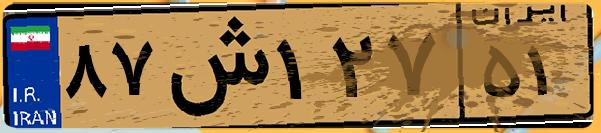1: (270, 28, 330, 110), (525, 38, 570, 115)
2: (330, 28, 385, 110)
5: (475, 38, 525, 113)
7: (385, 28, 445, 110), (110, 28, 158, 98)
8: (57, 26, 110, 100)
ش: (158, 12, 270, 120)
